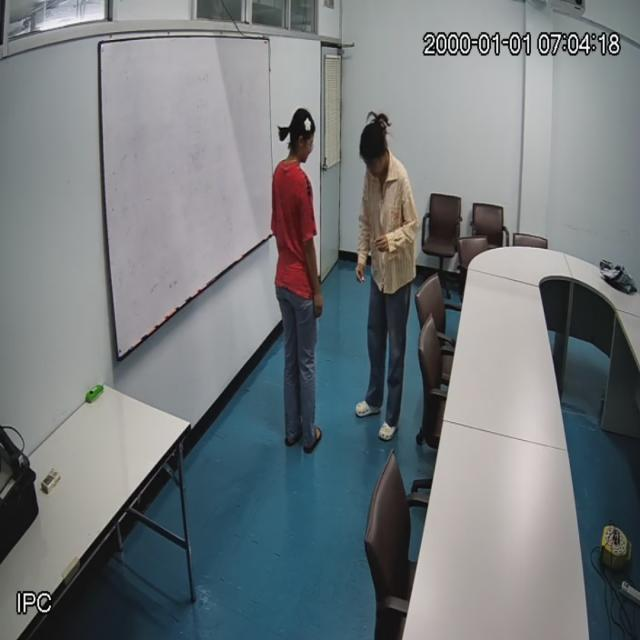normal: (267, 107, 326, 450), (355, 124, 417, 430)
